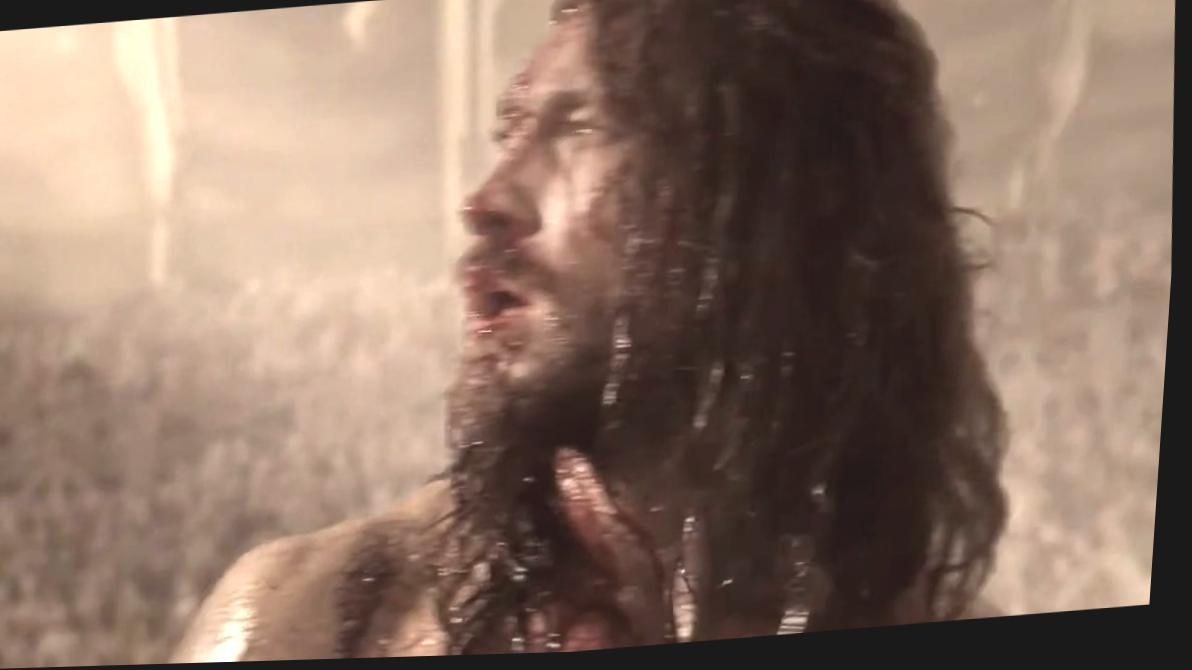Fire: (465, 15, 608, 257)
